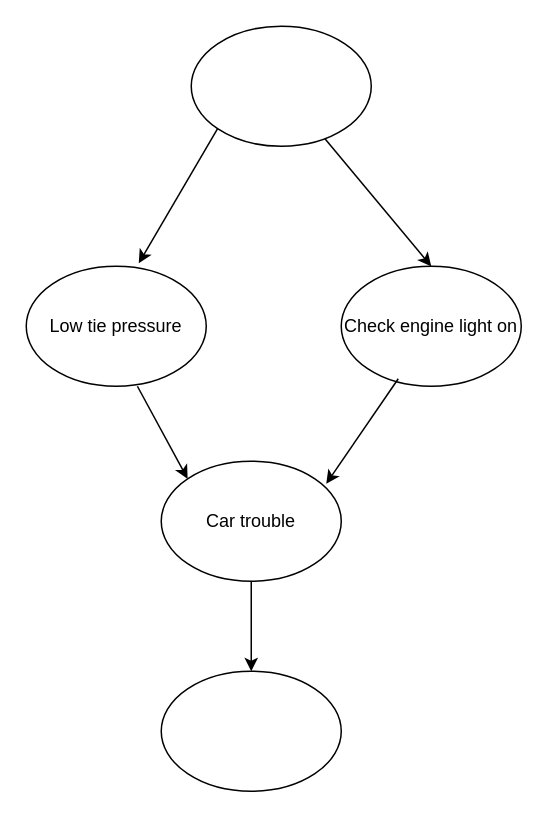
The diagram is 548 pixels wide and 818 high, and some of its shapes have lost their labels. Each missing label, with the centre of its shape:
"Be on time" belongs at [250,730].
"Keep car in good shape" belongs at [280,85].
